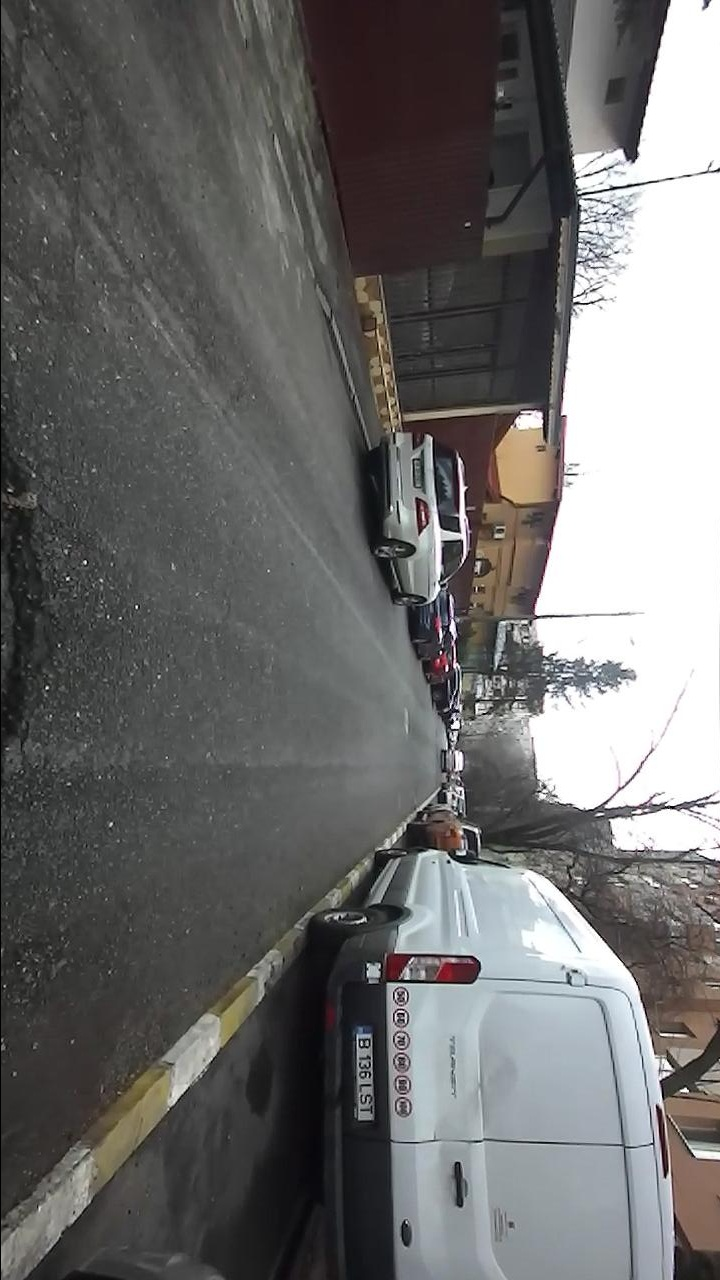pothole: (1, 395, 52, 780)
